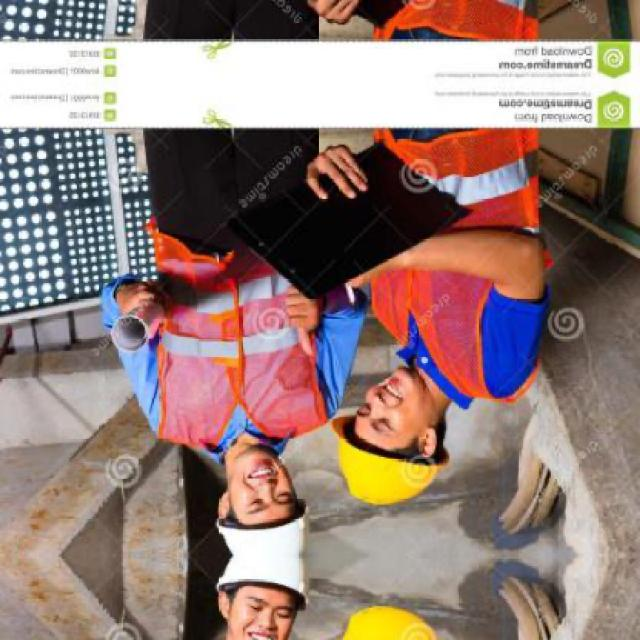con casco: (308, 350, 499, 536), (190, 461, 389, 582)
